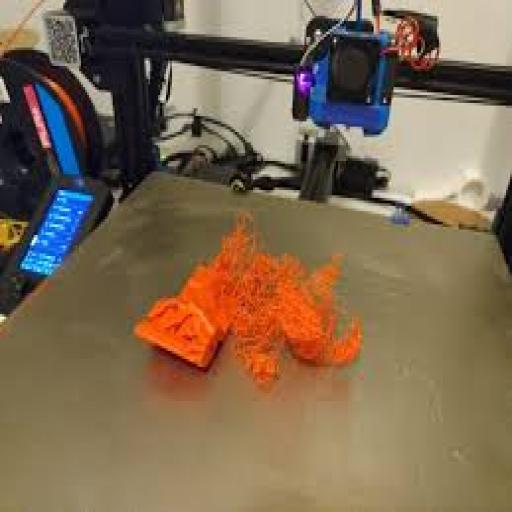spaghetti: (193, 208, 355, 404)
